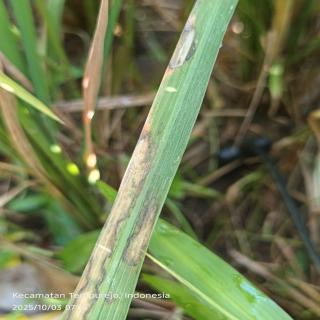Blast: (78, 128, 162, 292), (119, 187, 158, 267), (166, 12, 206, 73)
